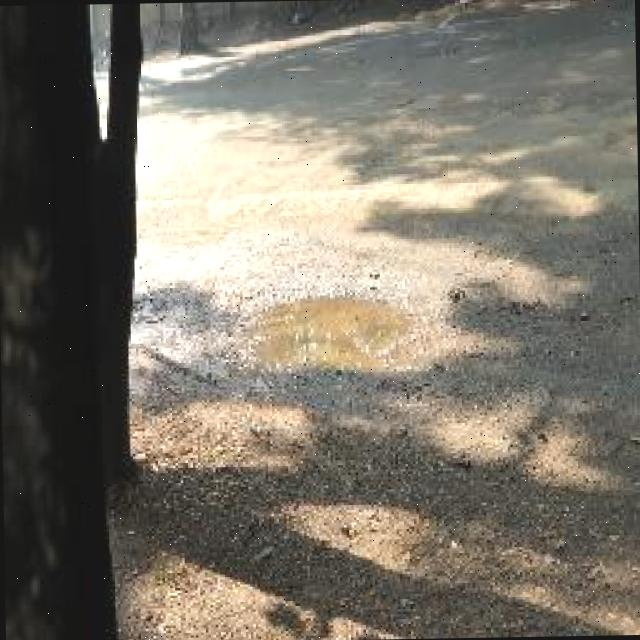stagnation: (226, 279, 438, 382)
